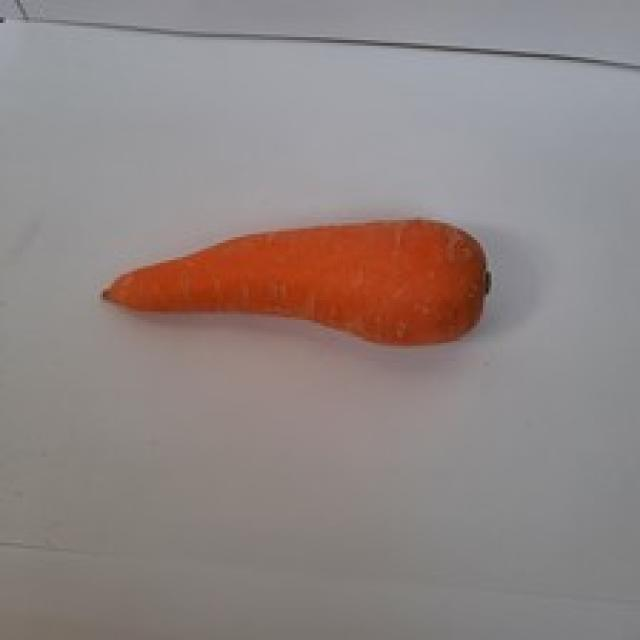Fresh_Carrot: (96, 225, 484, 357)
